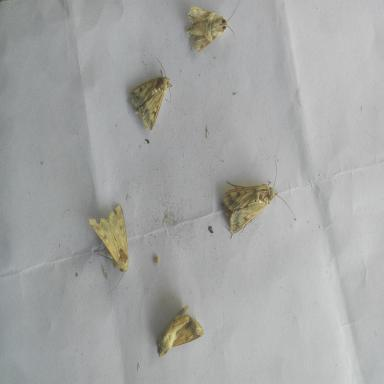abw: (218, 150, 299, 238), (86, 200, 132, 300), (126, 54, 174, 136), (151, 298, 207, 361), (182, 1, 242, 58)
